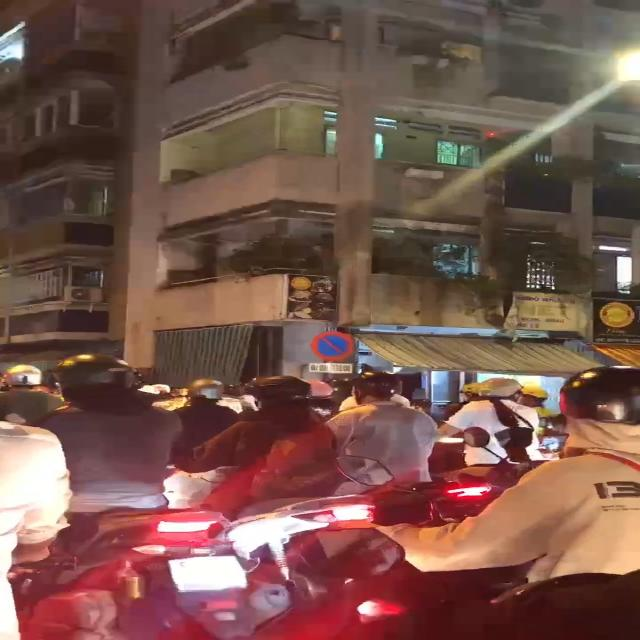Bien bao cam do xe: (307, 326, 362, 362)
